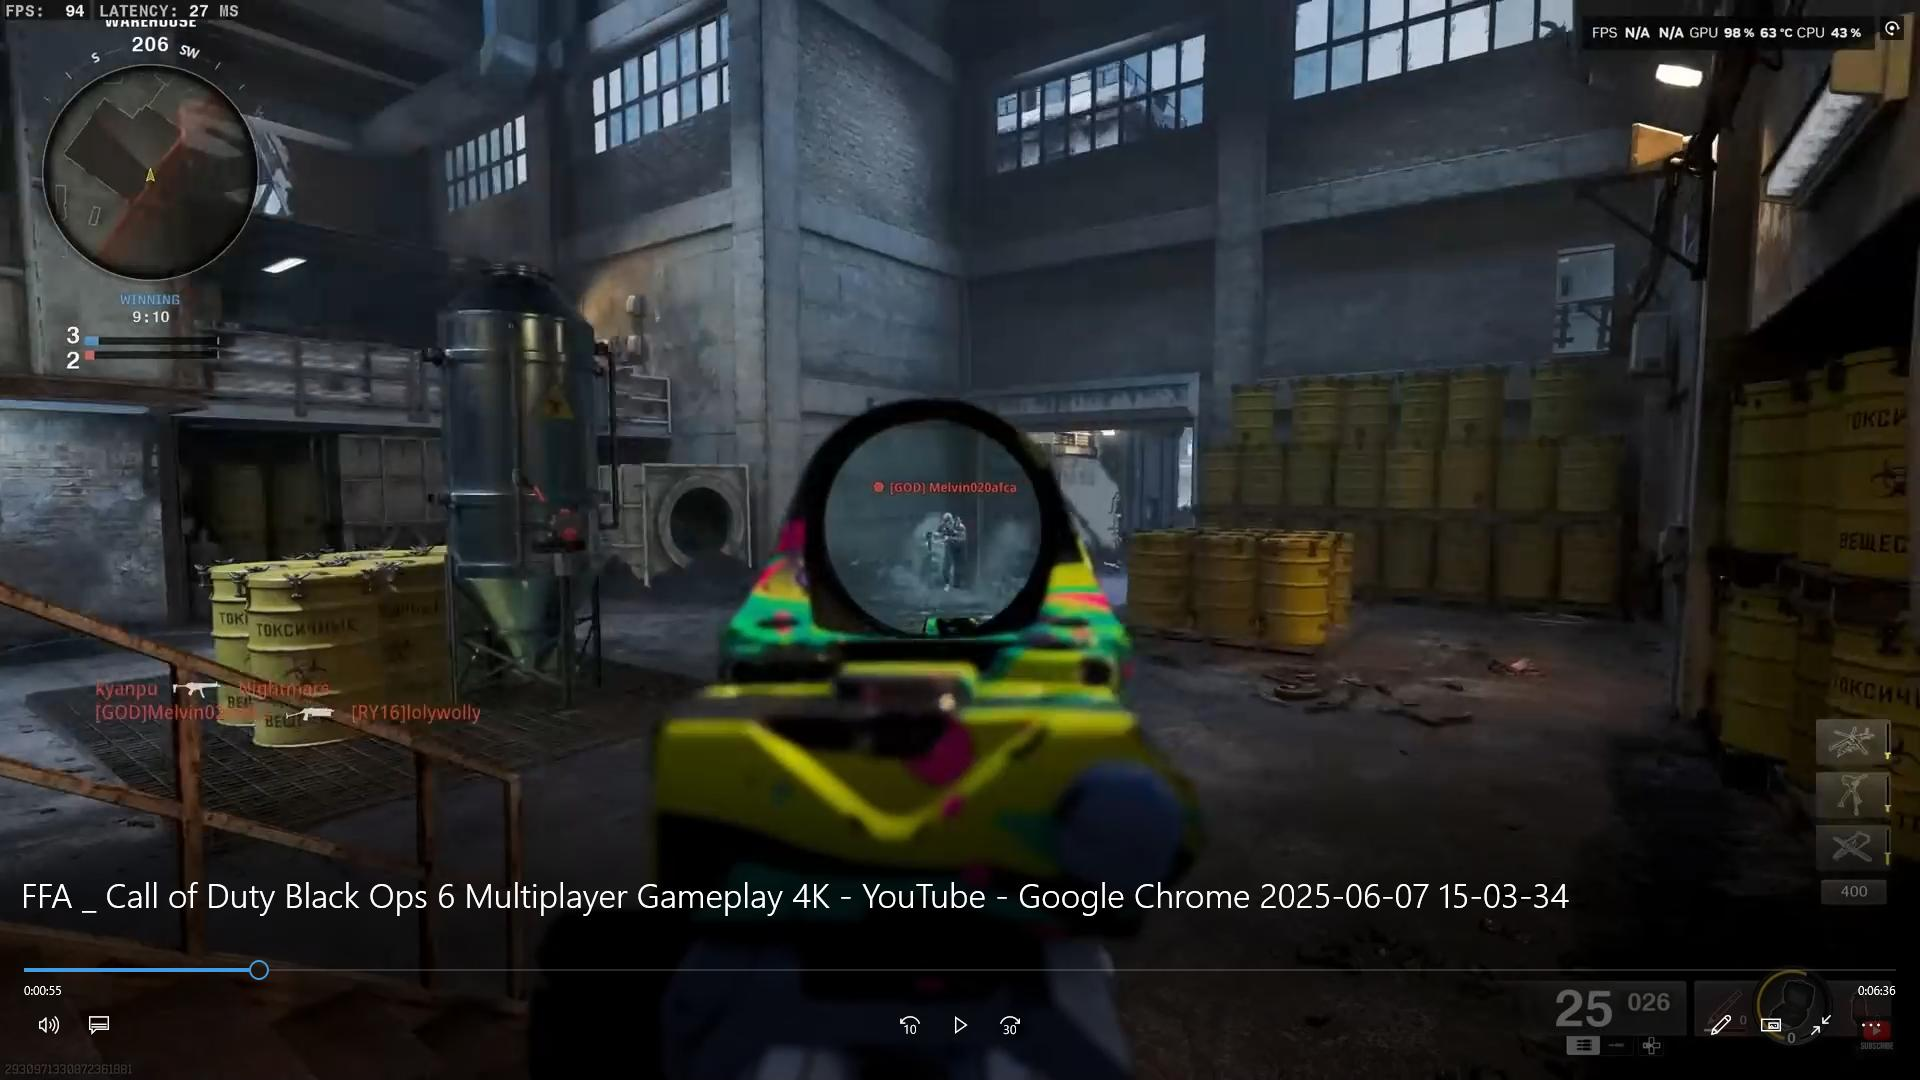Enemy: (924, 508, 978, 599)
